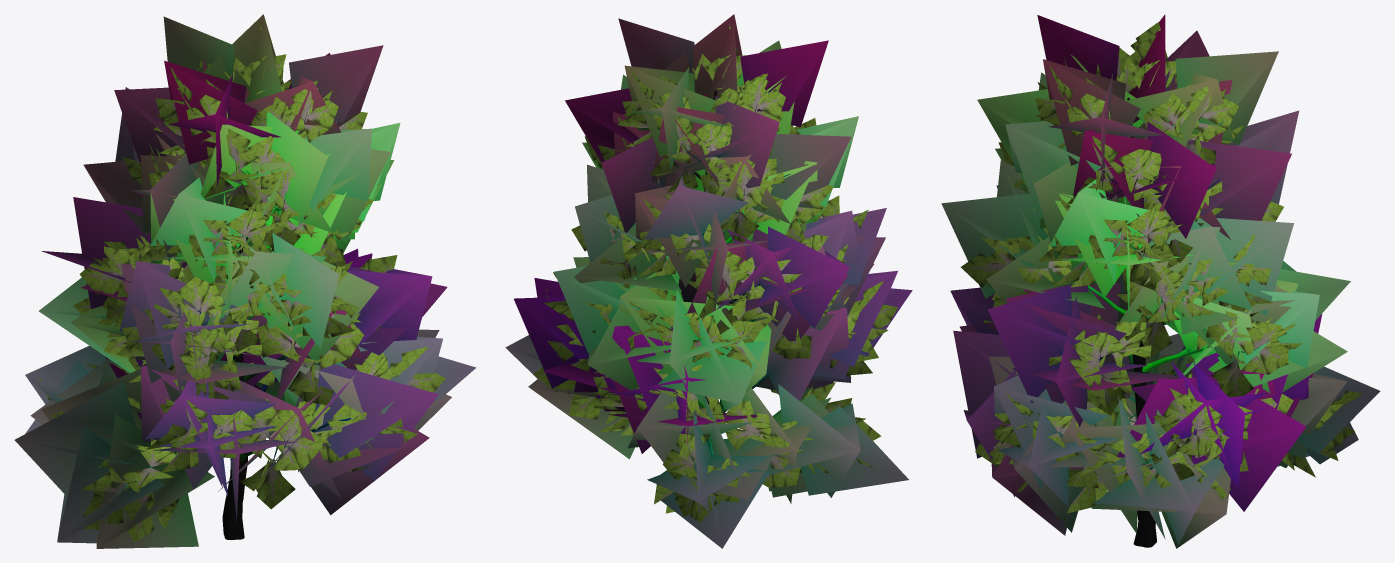
File: BeechTreeGen02_04f.fbx
3 renders of one model, left to right at view 1: azimuth 30°, elevation 25°; view 2: azimuth 150°, elevation 25°; view 3: azimuth 270°, elevation 25°, orthographic. The views are drawn at different scales.
Parts seen in each view (by area): view 1: Tree_1, Tree_2, Tree_0; view 2: Tree_1, Tree_2, Tree_0; view 3: Tree_1, Tree_2, Tree_0.
Boxes of the visible parts, <box> form: Tree_1: <box>14,14,476,548</box>; Tree_2: <box>38,25,445,541</box>; Tree_0: <box>113,115,351,539</box>; Tree_1: <box>505,14,912,548</box>; Tree_2: <box>533,24,897,522</box>; Tree_0: <box>612,87,790,462</box>; Tree_1: <box>941,14,1380,548</box>; Tree_2: <box>960,22,1361,513</box>; Tree_0: <box>1047,97,1260,547</box>.
Bounding box in the file's own units: 76.81 × 88.74 × 70.87.
